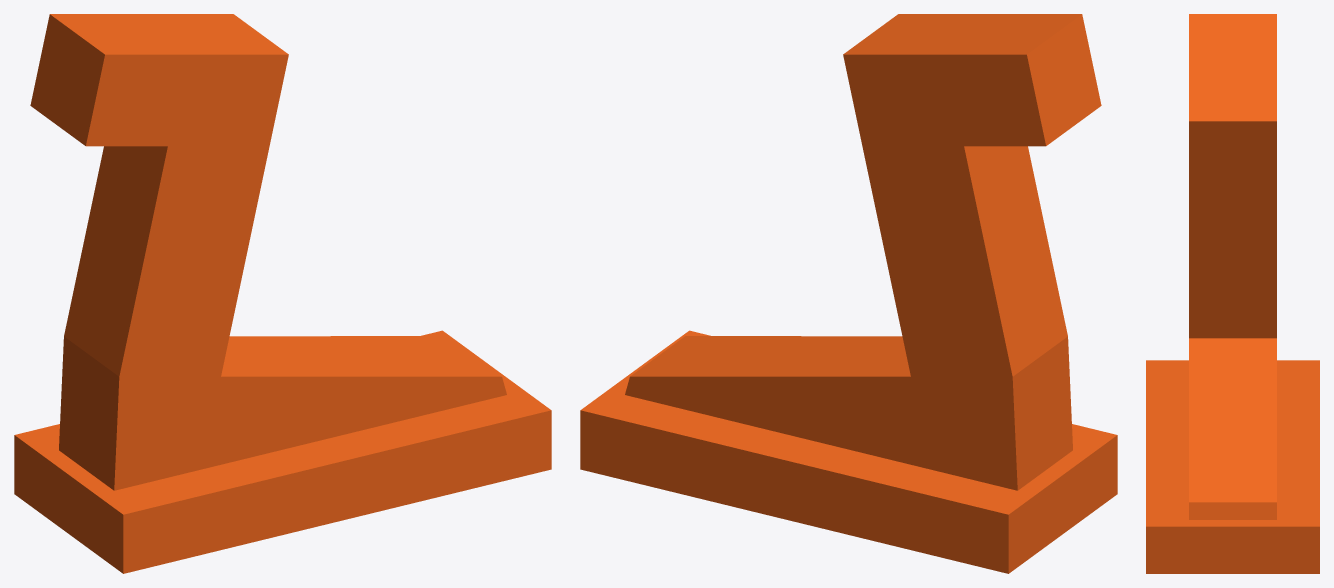
The model's file is WallMount_Hook_03.fbx.
3 renders of one model, left to right at view 1: azimuth 30°, elevation 25°; view 2: azimuth 150°, elevation 25°; view 3: azimuth 270°, elevation 25°, orthographic. The views are drawn at different scales.
Visible parts, largest first — view 1: WallMount_Hook_03; view 2: WallMount_Hook_03; view 3: WallMount_Hook_03.
Part boxes in pixels (<box>): WallMount_Hook_03: <box>14,14,551,573</box>; WallMount_Hook_03: <box>580,14,1117,573</box>; WallMount_Hook_03: <box>1146,14,1319,573</box>.
Bounding box in the file's own units: 18.61 × 20.16 × 8.
